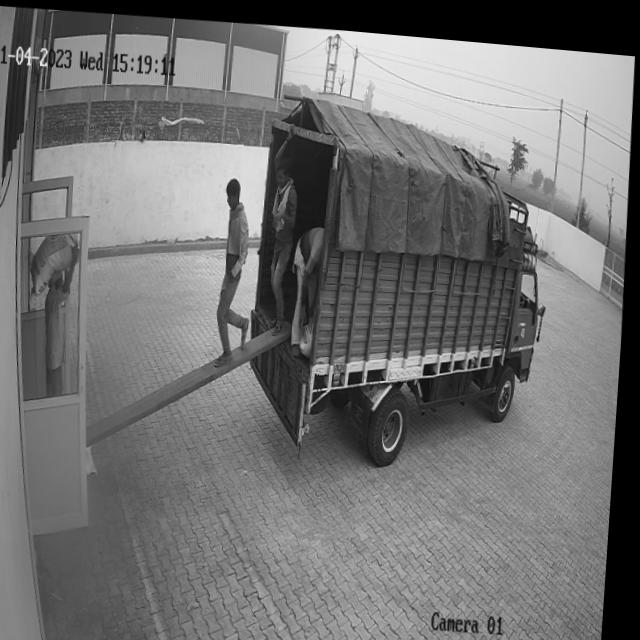sack: (30, 229, 79, 298)
